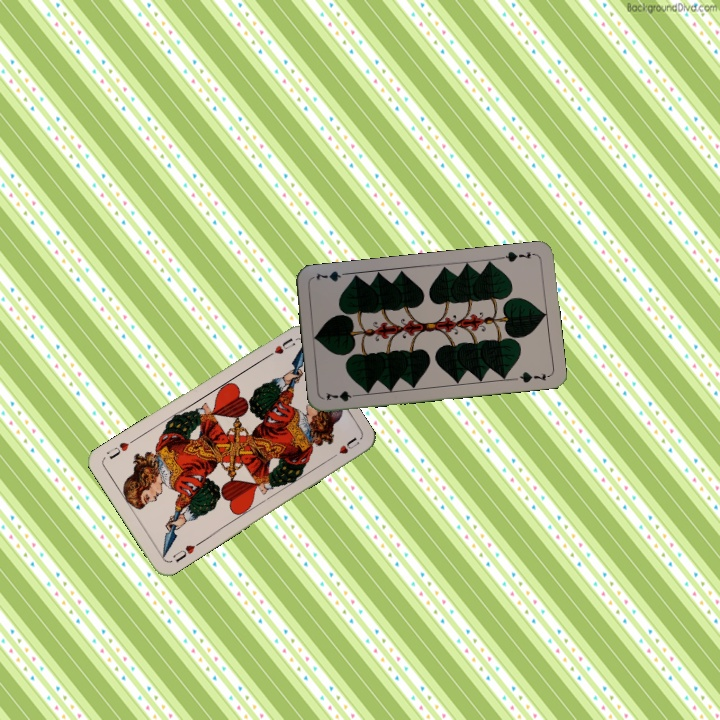G7: (322, 387, 363, 404), (497, 247, 538, 264)
HU: (260, 334, 297, 362), (169, 538, 203, 565)
